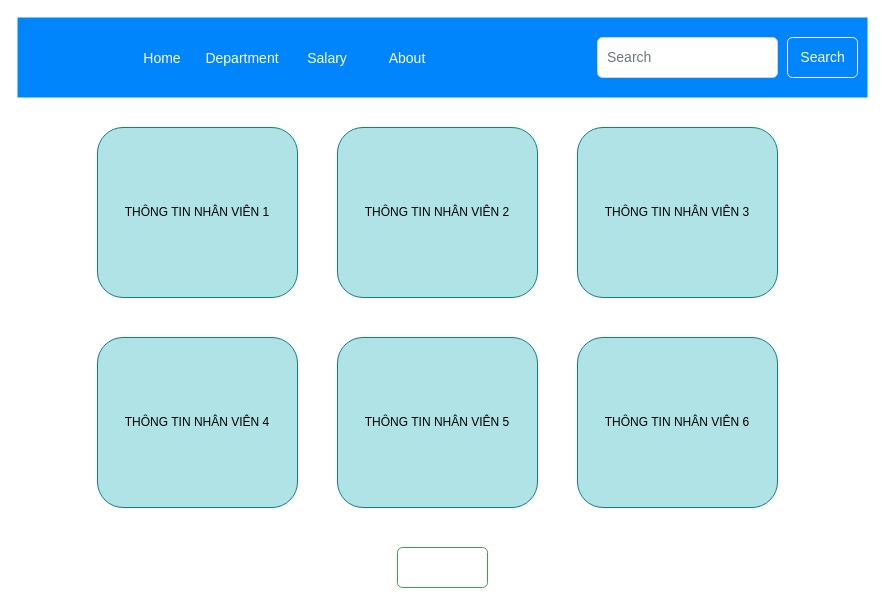
Some shapes in this 884 by 605 pixel diagram are drawn without their labels. The centre of each missing label's shape, as x and y in pixels:
LOGO: point (442, 57)
NEXT: point (442, 567)
